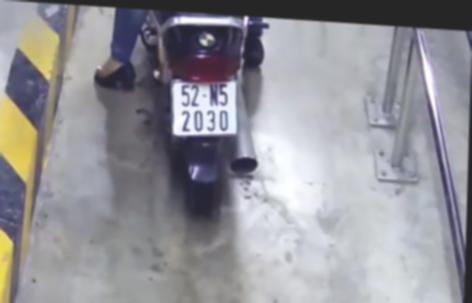License_Plate: (165, 74, 244, 145)
